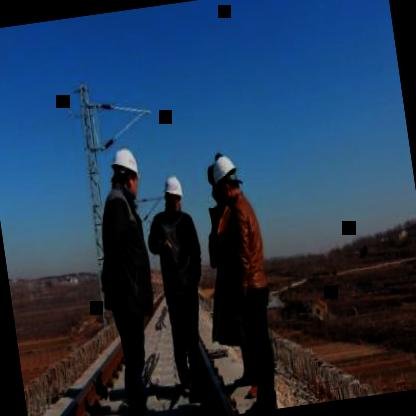helmet: (204, 148, 245, 212), (107, 141, 144, 202), (160, 170, 188, 218)
